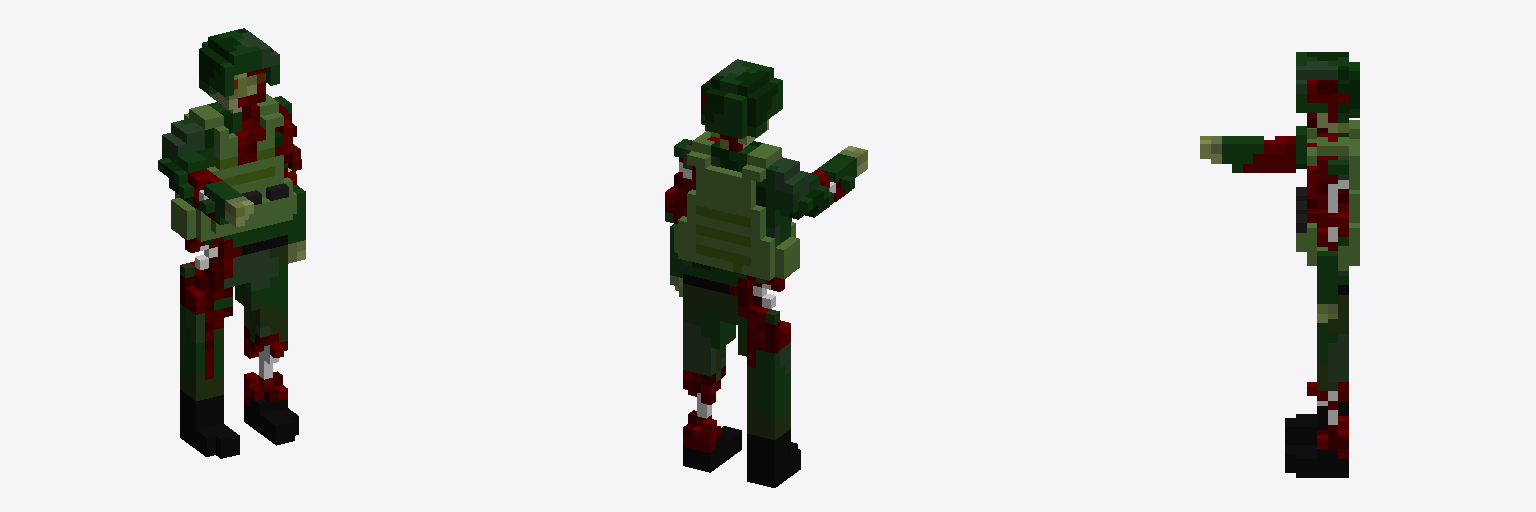
3 views of the same model, side by side, from view 1: azimuth 30°, elevation 25°; view 2: azimuth 150°, elevation 25°; view 3: azimuth 270°, elevation 25° (orthographic).
Parts seen in each view (by area): view 1: object 1; view 2: object 1; view 3: object 1.
Part boxes in pixels (x1,y1,x2,y2): object 1: (158, 28, 305, 458); object 1: (665, 59, 867, 487); object 1: (1200, 52, 1359, 477).
Bounding box in the file's own units: 1.5 × 4.1 × 1.5.
Materials: 1 (1 with a texture image).